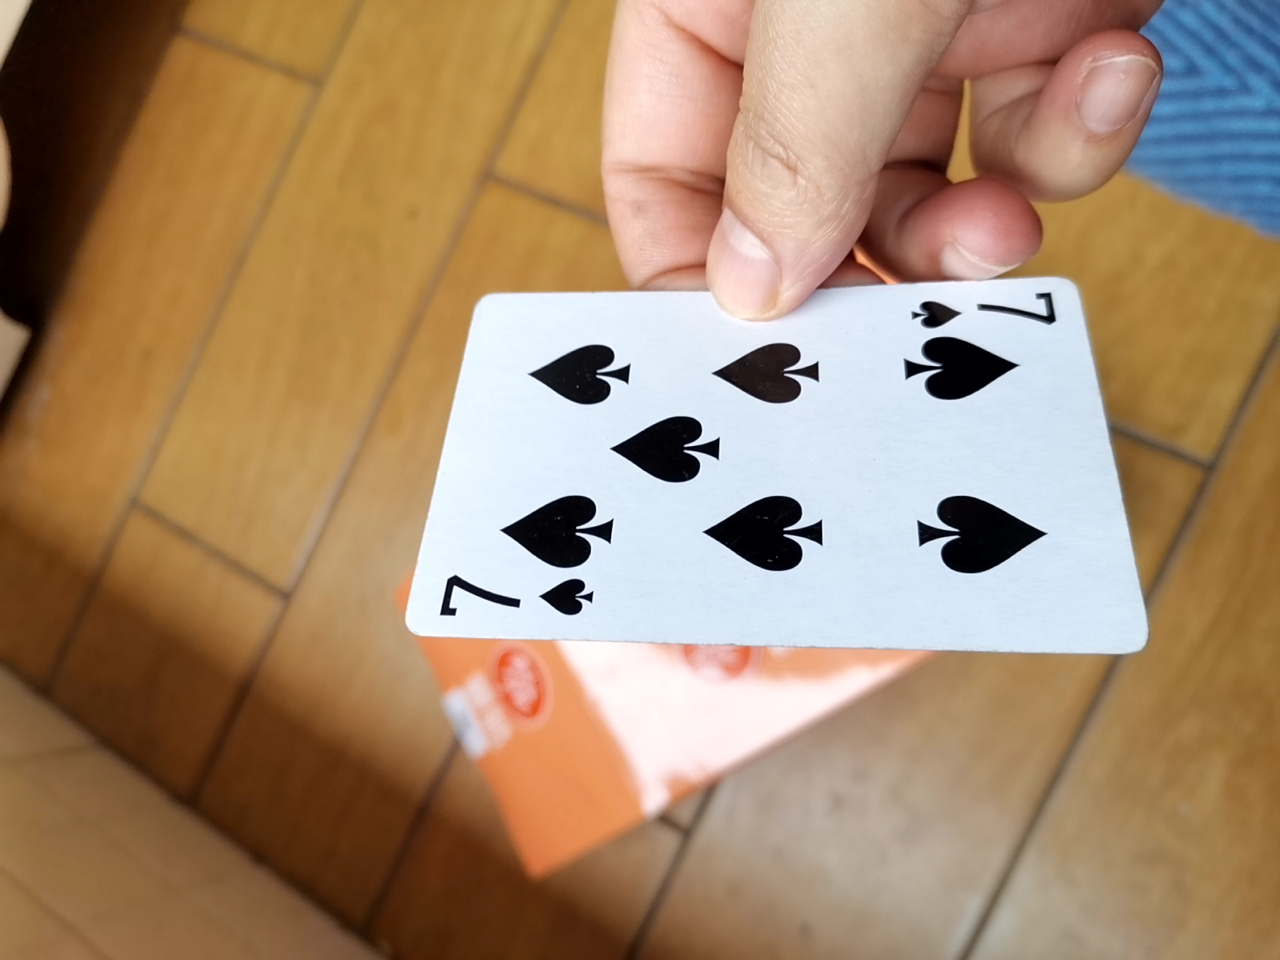ht 7: (399, 264, 1166, 672)
